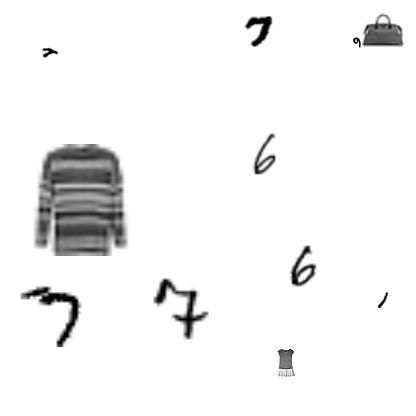1: (372, 290, 394, 312)
2: (38, 41, 60, 63)
6: (274, 240, 330, 296), (235, 130, 291, 186)
7: (139, 261, 223, 345), (15, 263, 99, 347), (239, 6, 281, 48)
9: (350, 34, 364, 48)
Bag: (362, 9, 404, 51)
Dress: (272, 349, 300, 377)
Pullover: (23, 144, 135, 256)
